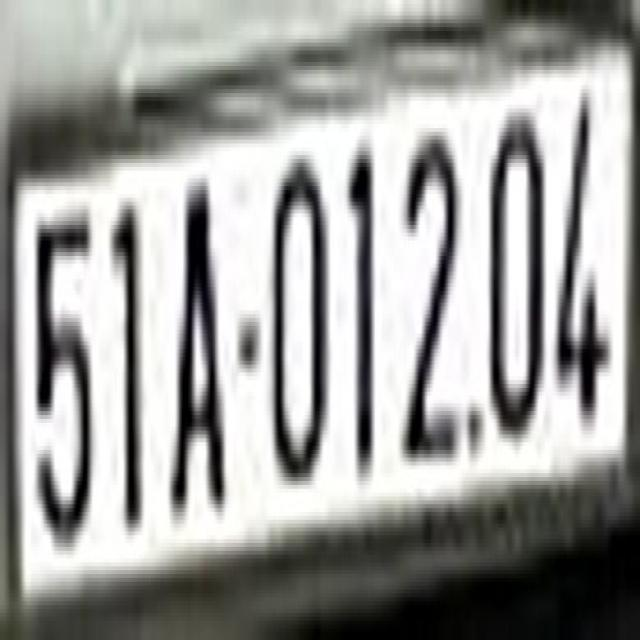0: (270, 152, 331, 496), (486, 101, 545, 446)
1: (106, 190, 148, 547), (341, 128, 377, 485)
2: (400, 143, 460, 470)
4: (552, 89, 610, 419)
5: (34, 182, 92, 543)
A: (166, 182, 227, 520)
